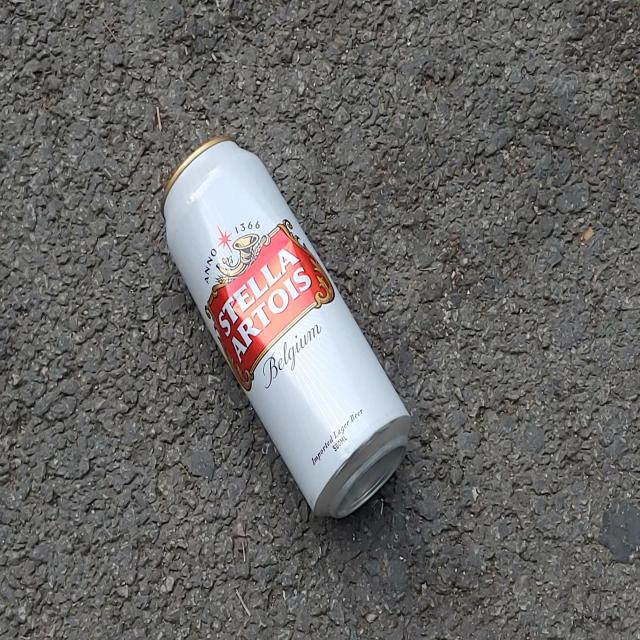can: (162, 136, 411, 518)
